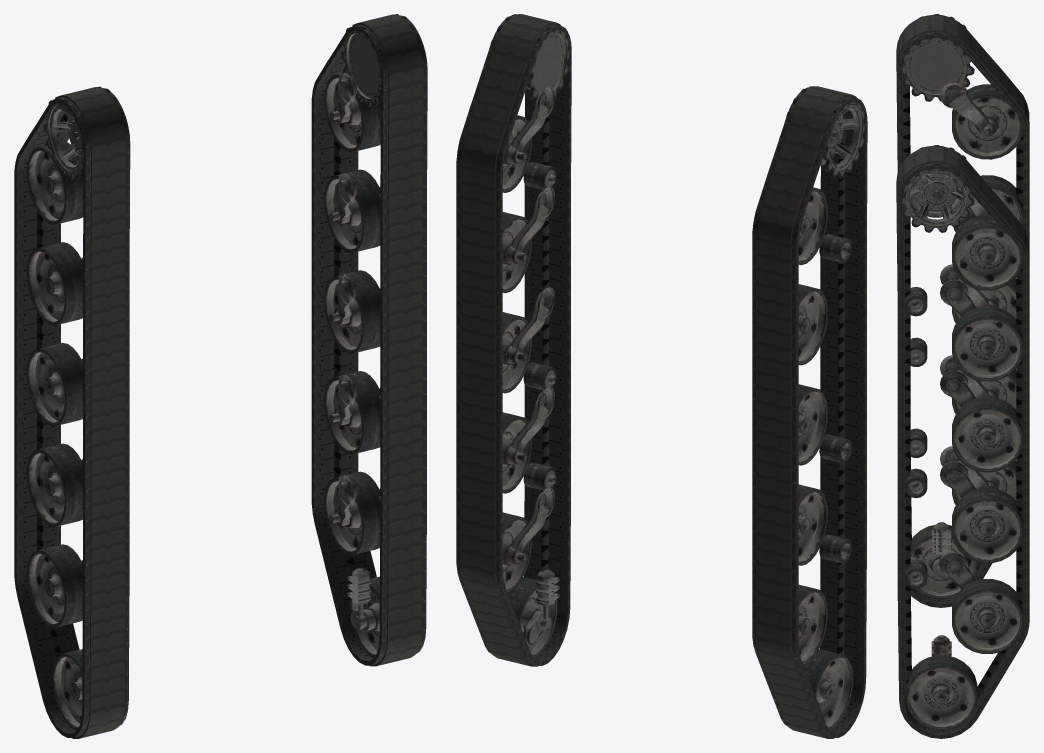
File: Chassis.glb
3 views of the same model, side by side, from view 1: azimuth 30°, elevation 25°; view 2: azimuth 150°, elevation 25°; view 3: azimuth 270°, elevation 25° (orthographic). The views are drawn at different scales.
Parts seen in each view (by area): view 1: set_3_group_0, set_2_group_0, set_1_group_0, set_0_group_0; view 2: set_3_group_0, set_2_group_0, set_1_group_0, set_0_group_0; view 3: set_1_group_0, set_0_group_0, set_2_group_0, set_3_group_0.
Part boxes in pixels (bbox=[...]): set_3_group_0: bbox=[14, 87, 130, 738]; set_2_group_0: bbox=[311, 14, 427, 666]; set_1_group_0: bbox=[324, 14, 427, 657]; set_0_group_0: bbox=[26, 86, 129, 730]; set_3_group_0: bbox=[752, 86, 867, 738]; set_2_group_0: bbox=[456, 14, 571, 666]; set_1_group_0: bbox=[490, 14, 568, 658]; set_0_group_0: bbox=[786, 86, 864, 730]; set_1_group_0: bbox=[898, 145, 1023, 730]; set_0_group_0: bbox=[898, 14, 1023, 599]; set_2_group_0: bbox=[896, 145, 1029, 738]; set_3_group_0: bbox=[896, 14, 1029, 607].
Size of the model in its own units: 3.44 by 6.16 by 1.29.
4 materials, 4 textured.
